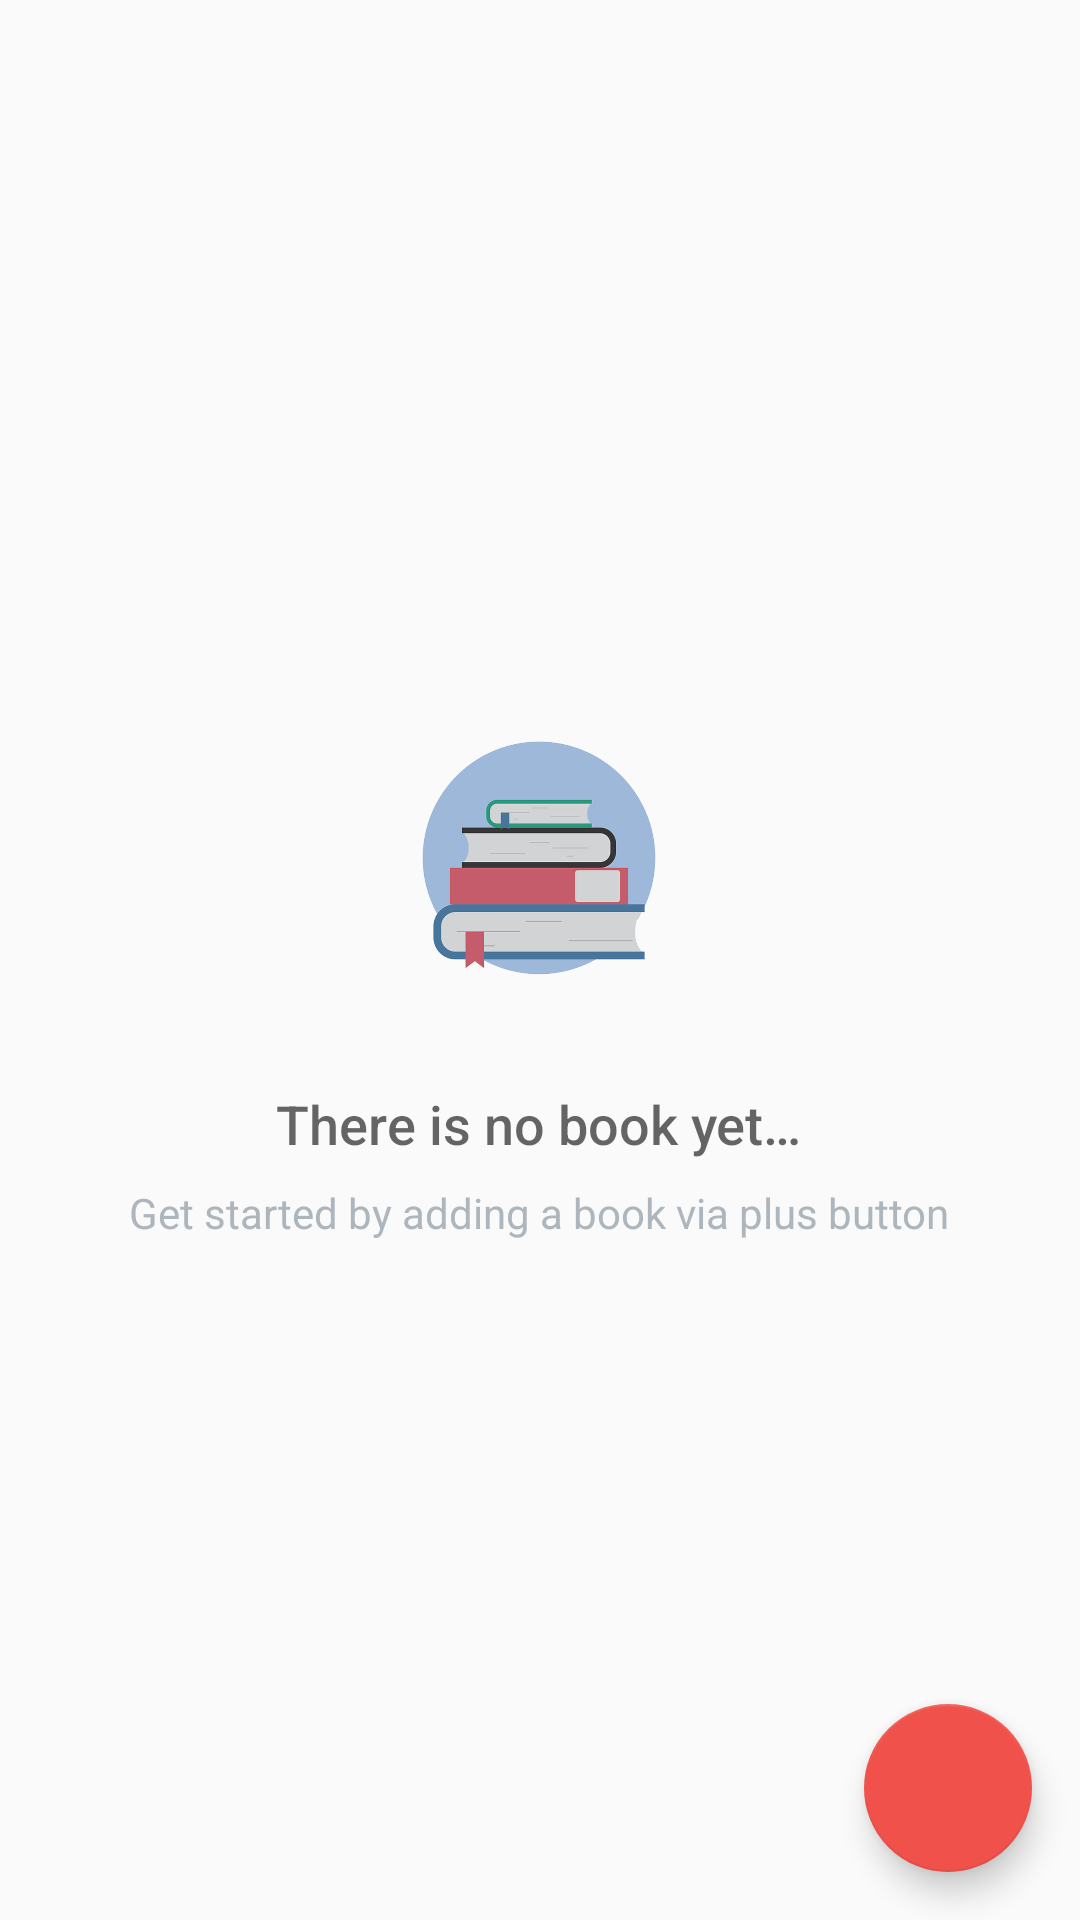

Where icons sit on this 1080px×1920px app screen, as (x1, y1, x2, y2):
library: (422, 741, 656, 974)
